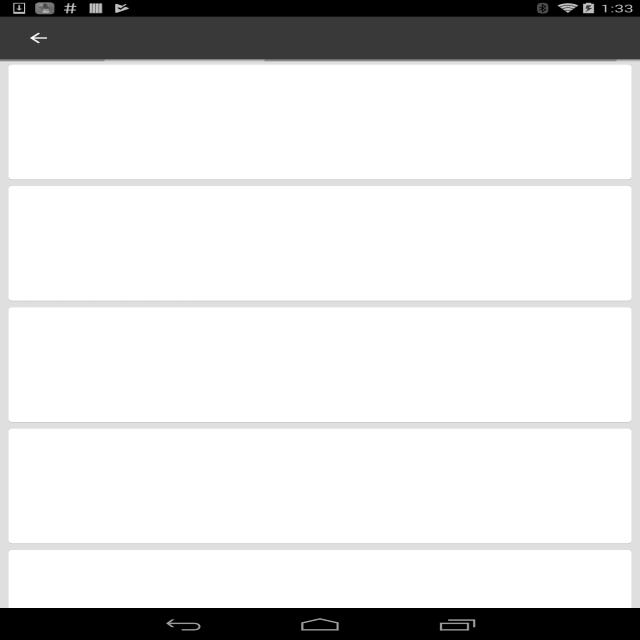ImageButton: (9, 17, 68, 59)
ImageView: (509, 306, 631, 421), (509, 65, 631, 179), (509, 186, 631, 300), (509, 428, 631, 542), (509, 548, 631, 640), (4, 17, 73, 59), (589, 570, 631, 602), (222, 41, 239, 51)
TextView: (26, 71, 492, 90), (26, 192, 492, 211), (26, 313, 492, 331), (26, 434, 492, 452), (26, 555, 492, 573), (83, 22, 217, 54), (462, 570, 589, 602), (83, 22, 338, 34), (26, 124, 144, 140), (26, 244, 144, 260), (26, 486, 144, 502), (403, 570, 462, 602), (25, 398, 142, 414), (81, 108, 228, 120), (571, 22, 626, 54), (26, 365, 136, 381), (26, 157, 129, 172), (26, 140, 90, 156), (26, 260, 90, 276), (26, 502, 90, 518), (81, 228, 153, 242), (69, 471, 141, 484), (26, 102, 72, 120), (26, 224, 72, 242), (26, 586, 72, 604), (26, 381, 65, 397), (26, 344, 60, 362), (26, 466, 60, 484), (90, 140, 120, 156), (26, 210, 60, 223), (26, 573, 60, 586), (26, 90, 60, 102), (26, 332, 60, 344), (120, 140, 142, 156), (90, 260, 112, 276), (112, 260, 134, 276), (86, 381, 108, 397), (90, 502, 112, 518), (112, 502, 134, 518), (65, 381, 86, 397), (26, 452, 50, 466), (239, 42, 246, 54)
